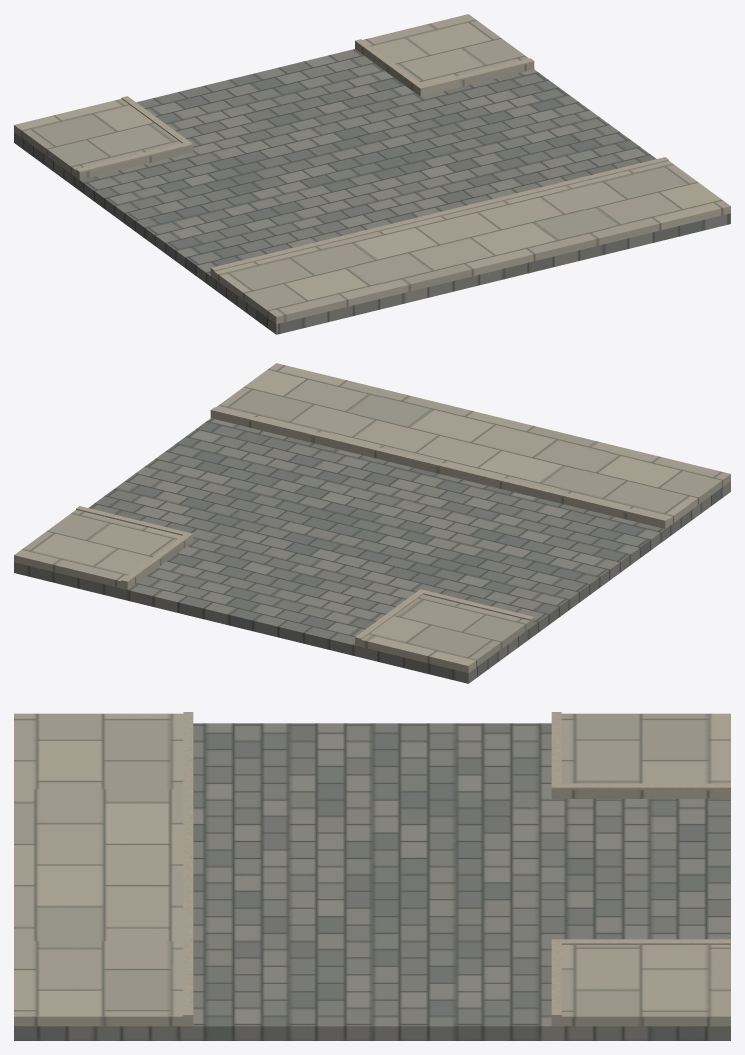
The model's file is Road_T.fbx.
The picture shows the model from 3 angles, top to bottom: view 1: azimuth 30°, elevation 25°; view 2: azimuth 150°, elevation 25°; view 3: azimuth 270°, elevation 25°; orthographic projection. The views are drawn at different scales.
Parts seen in each view (by area): view 1: Road_T.001; view 2: Road_T.001; view 3: Road_T.001.
Part boxes in pixels (x1,y1,x2,y2): Road_T.001: (14, 14, 730, 334); Road_T.001: (14, 363, 730, 683); Road_T.001: (14, 712, 730, 1040).
Size of the model in its own units: 8 by 0.3195 by 8.
